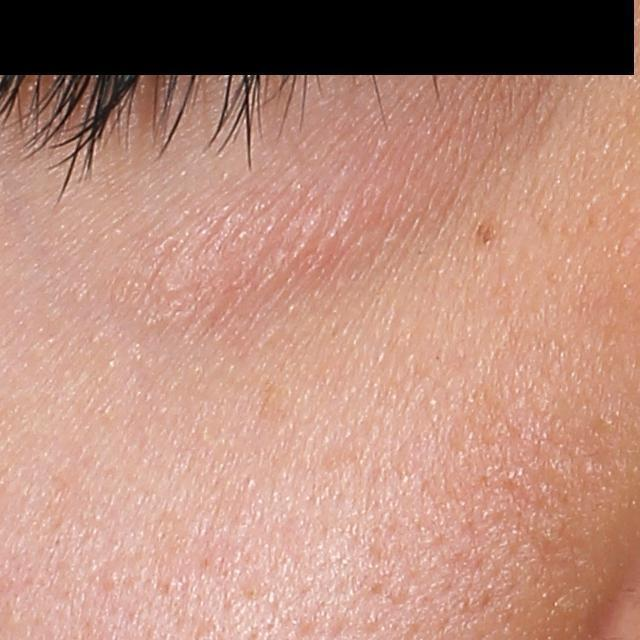nevus: (475, 219, 496, 247)
